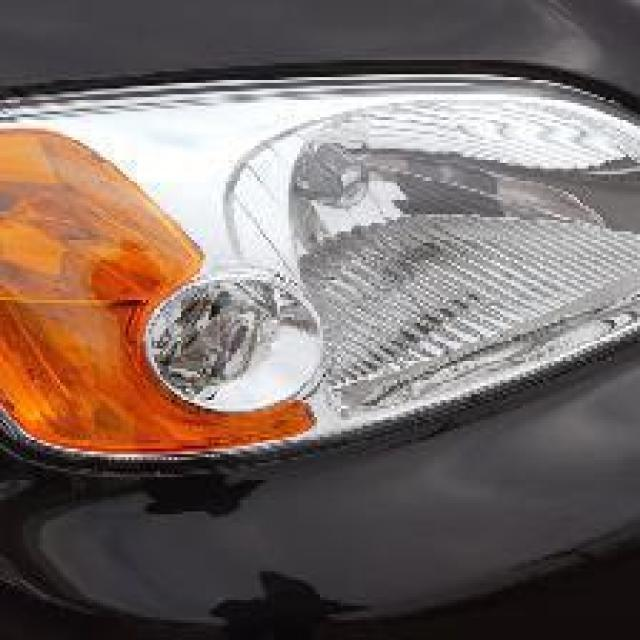damaged: (280, 100, 637, 420)
